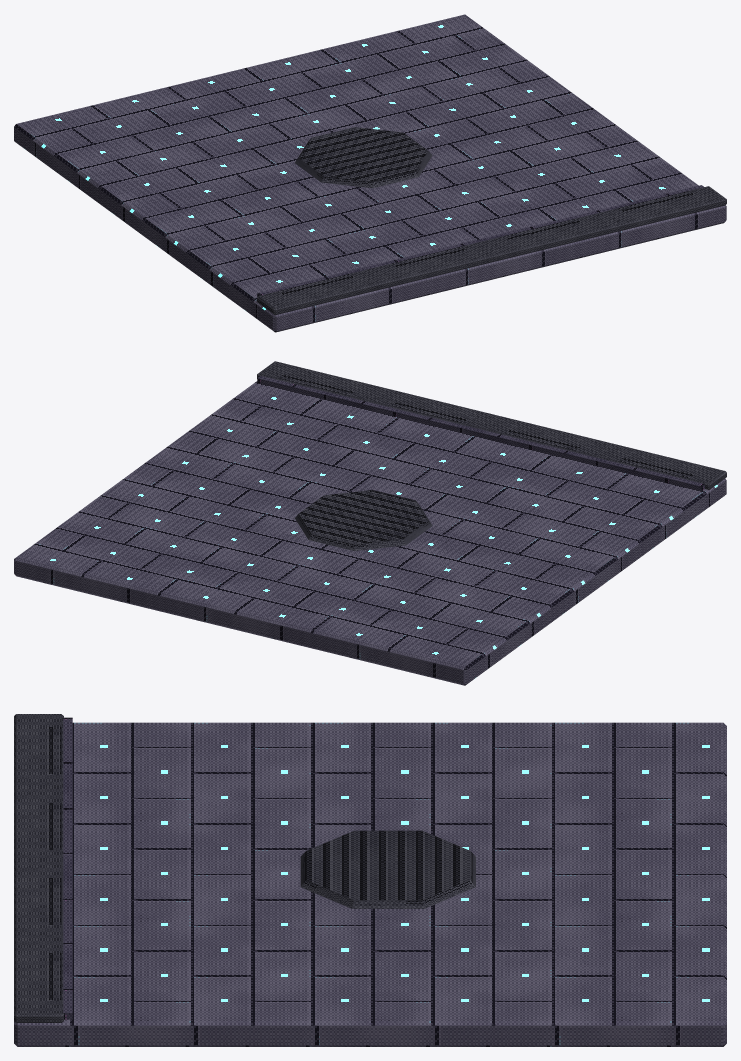
Rendered from sidewalk_slab.glb.
3 renders of one model, top to bottom at view 1: azimuth 30°, elevation 25°; view 2: azimuth 150°, elevation 25°; view 3: azimuth 270°, elevation 25°, orthographic. The views are drawn at different scales.
Parts seen in each view (by area): view 1: sidewalk_slab__city_sidewalk_hex, sidewalk_slab__city_roof_mech, sidewalk_slab__city_wall_neon; view 2: sidewalk_slab__city_sidewalk_hex, sidewalk_slab__city_roof_mech, sidewalk_slab__city_wall_neon; view 3: sidewalk_slab__city_sidewalk_hex, sidewalk_slab__city_roof_mech, sidewalk_slab__city_wall_neon.
Part boxes in pixels (<box>): sidewalk_slab__city_sidewalk_hex: <box>14,14,726,332</box>; sidewalk_slab__city_roof_mech: <box>257,127,726,315</box>; sidewalk_slab__city_wall_neon: <box>257,185,704,296</box>; sidewalk_slab__city_sidewalk_hex: <box>14,381,726,685</box>; sidewalk_slab__city_roof_mech: <box>257,361,726,551</box>; sidewalk_slab__city_wall_neon: <box>257,376,704,491</box>; sidewalk_slab__city_sidewalk_hex: <box>14,722,726,1046</box>; sidewalk_slab__city_roof_mech: <box>14,714,475,1023</box>; sidewalk_slab__city_wall_neon: <box>63,717,72,1019</box>.
Bounding box in the file's own units: 4 × 0.21 × 4.
3 materials, 3 textured.
